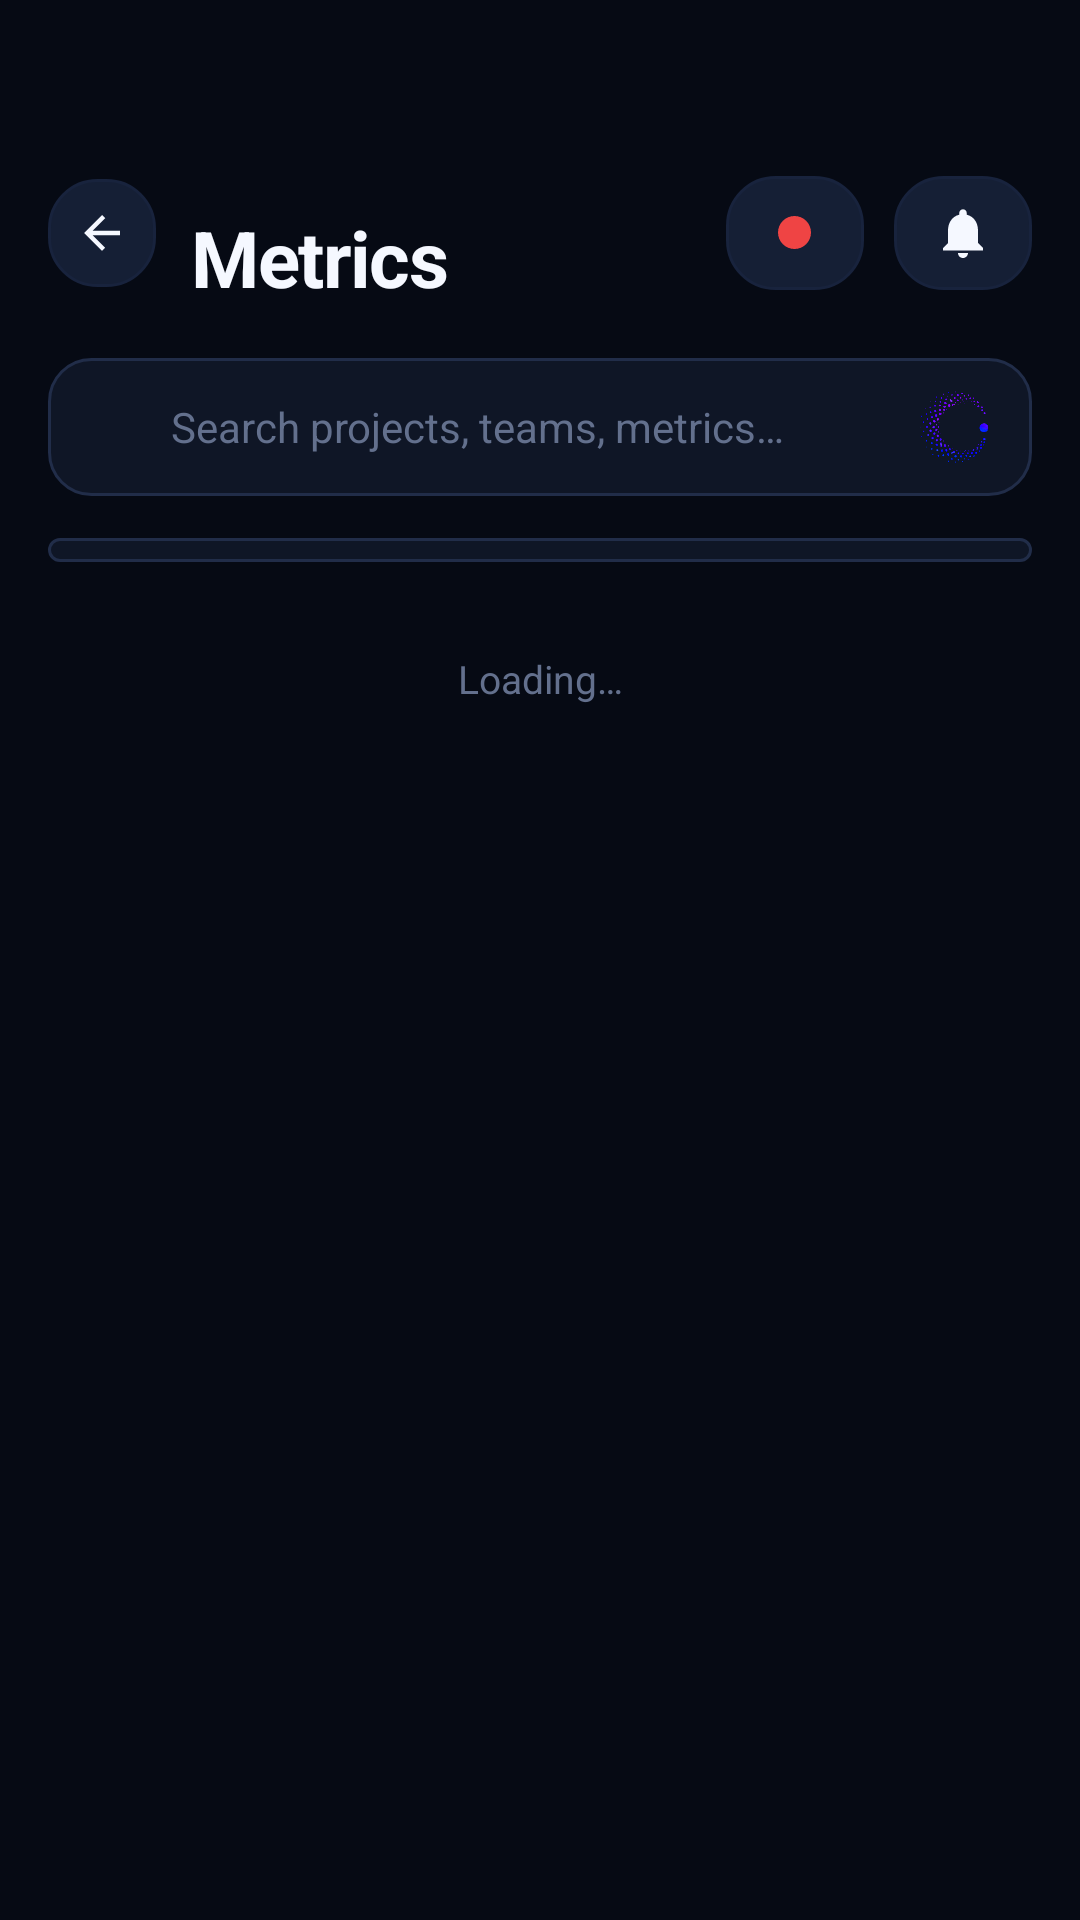

Icons on this 1080 × 1920 Android screen, each with the point to tap as (x,y):
arrow back: (102,233)
bell: (963,233)
